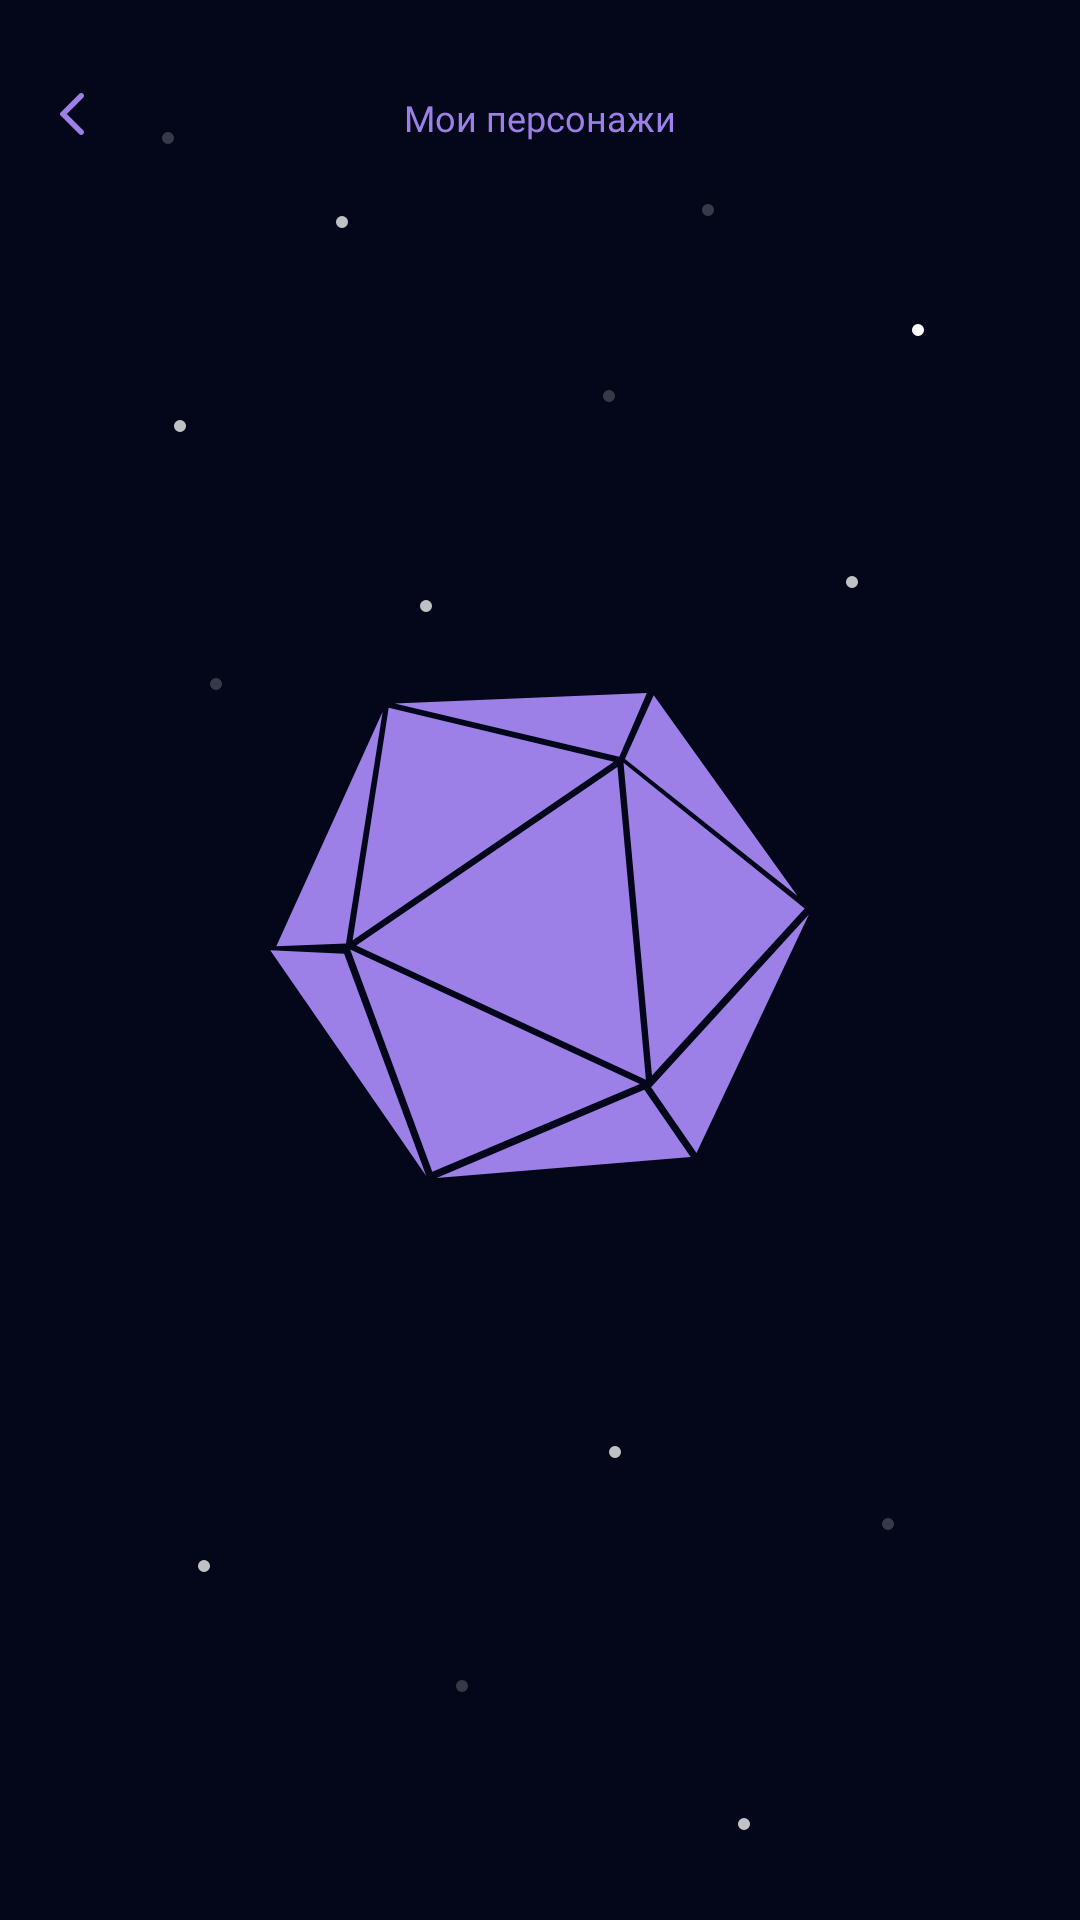

Screen size 1080×1920. Icon name, then its center in pixels as [x,y]:
backarrow: [72,114]
